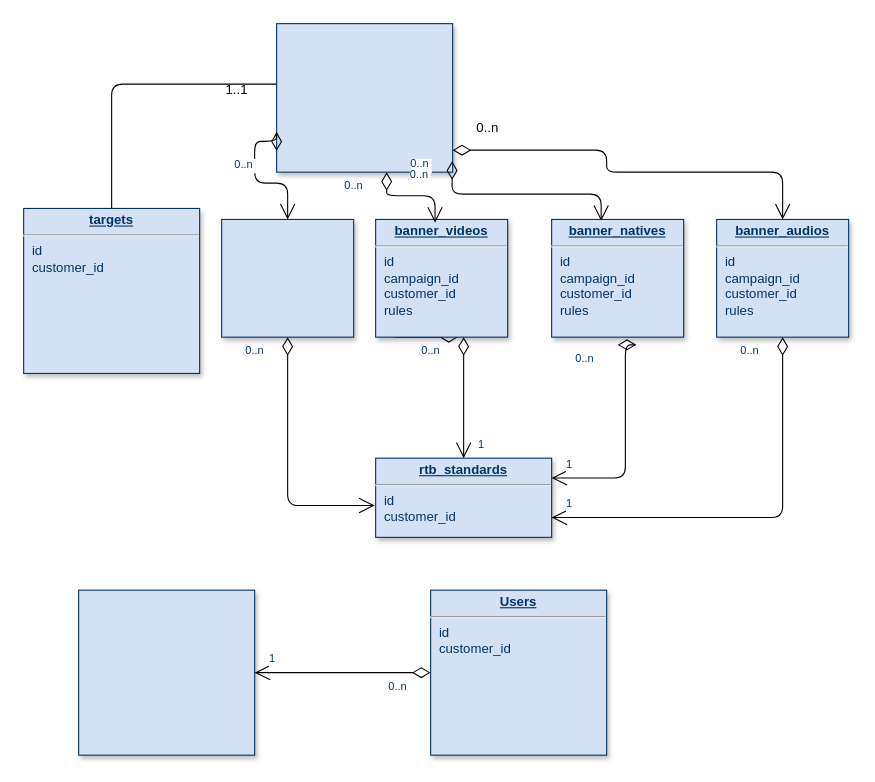
The diagram is 875 pixels wide and 782 high, and some of its shapes have lost their labels. Here are the shapes that lost their labels. From the top down, the centre of each, then its label:
At pixel 365 99: "campaigns id customer_id banners videos natives audios rules".
At pixel 288 279: "banners id campaign_id customer_id rules".
At pixel 167 674: "Companies id customer_id".
